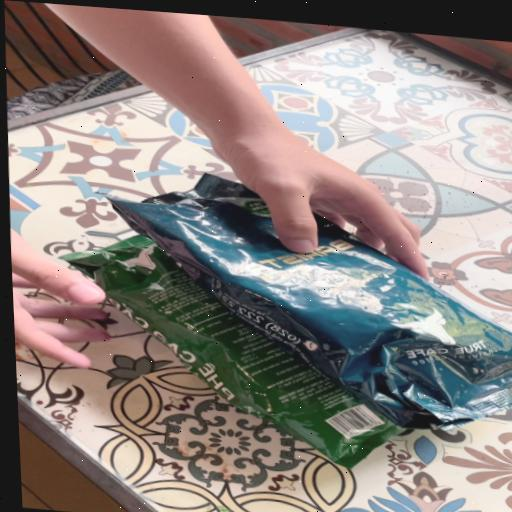cafe_hat: (108, 174, 512, 429)
cafe_xay: (63, 235, 402, 468)
